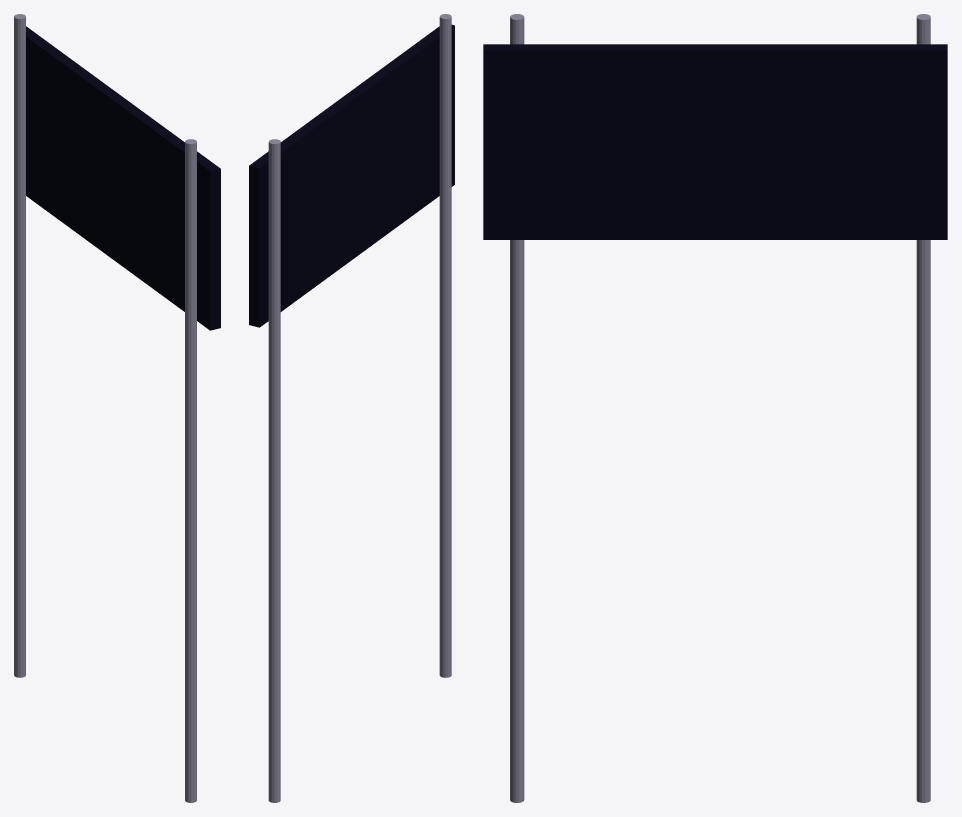
File: SM_add_board_standing.fbx
3 views of the same model, side by side, from view 1: azimuth 30°, elevation 25°; view 2: azimuth 150°, elevation 25°; view 3: azimuth 270°, elevation 25° (orthographic). The views are drawn at different scales.
Parts seen in each view (by area): view 1: ADD BOARD standing; view 2: ADD BOARD standing; view 3: ADD BOARD standing.
Boxes of the visible parts, x1,y1,x2,y2 form: ADD BOARD standing: [14, 14, 220, 802]; ADD BOARD standing: [249, 14, 454, 802]; ADD BOARD standing: [483, 14, 947, 802].
Size of the model in its own units: 17.97 by 546 by 293.
